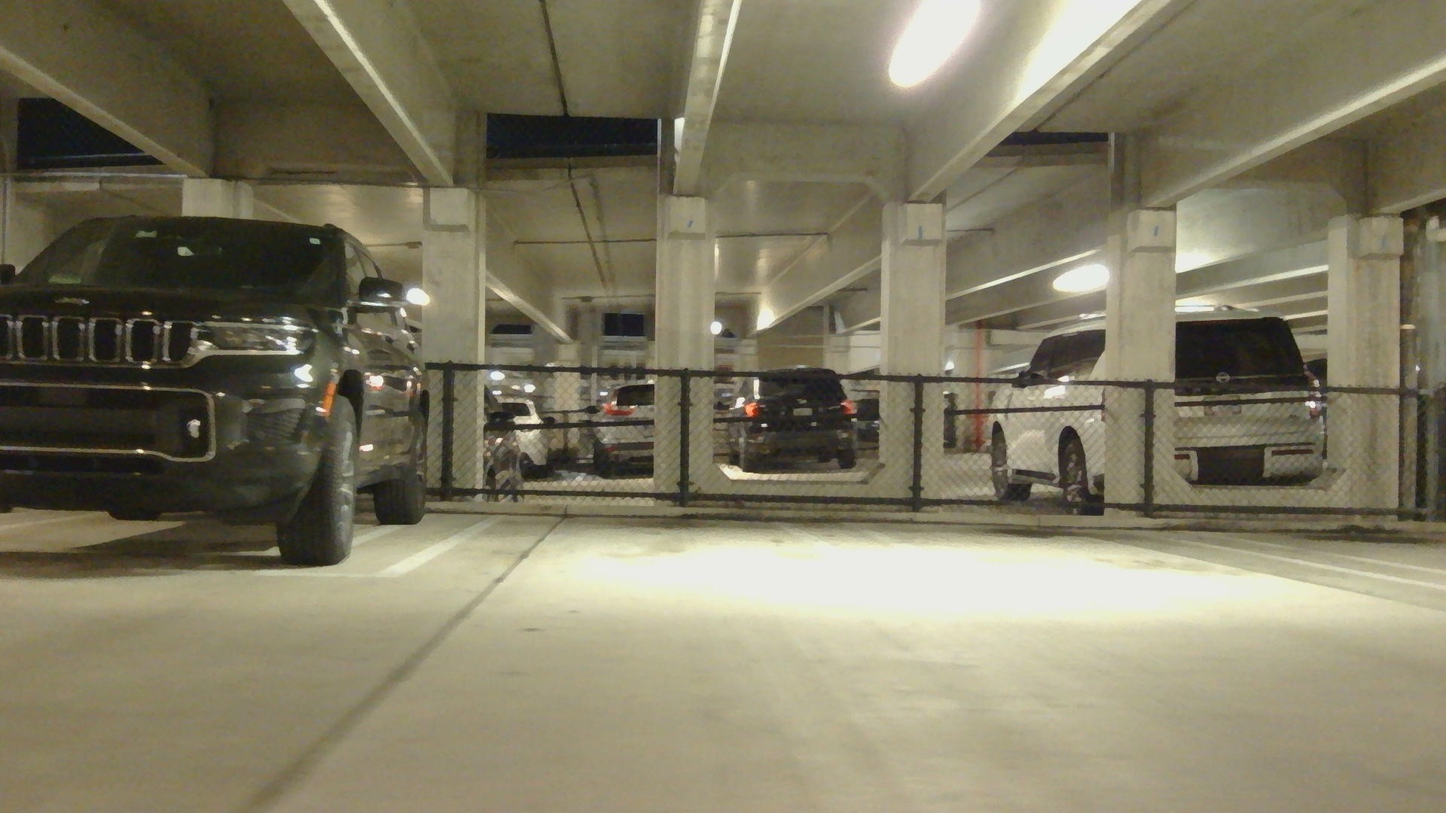empty_spot: (824, 433, 1446, 625), (386, 417, 910, 587)
occupied_spot: (0, 203, 441, 565)
